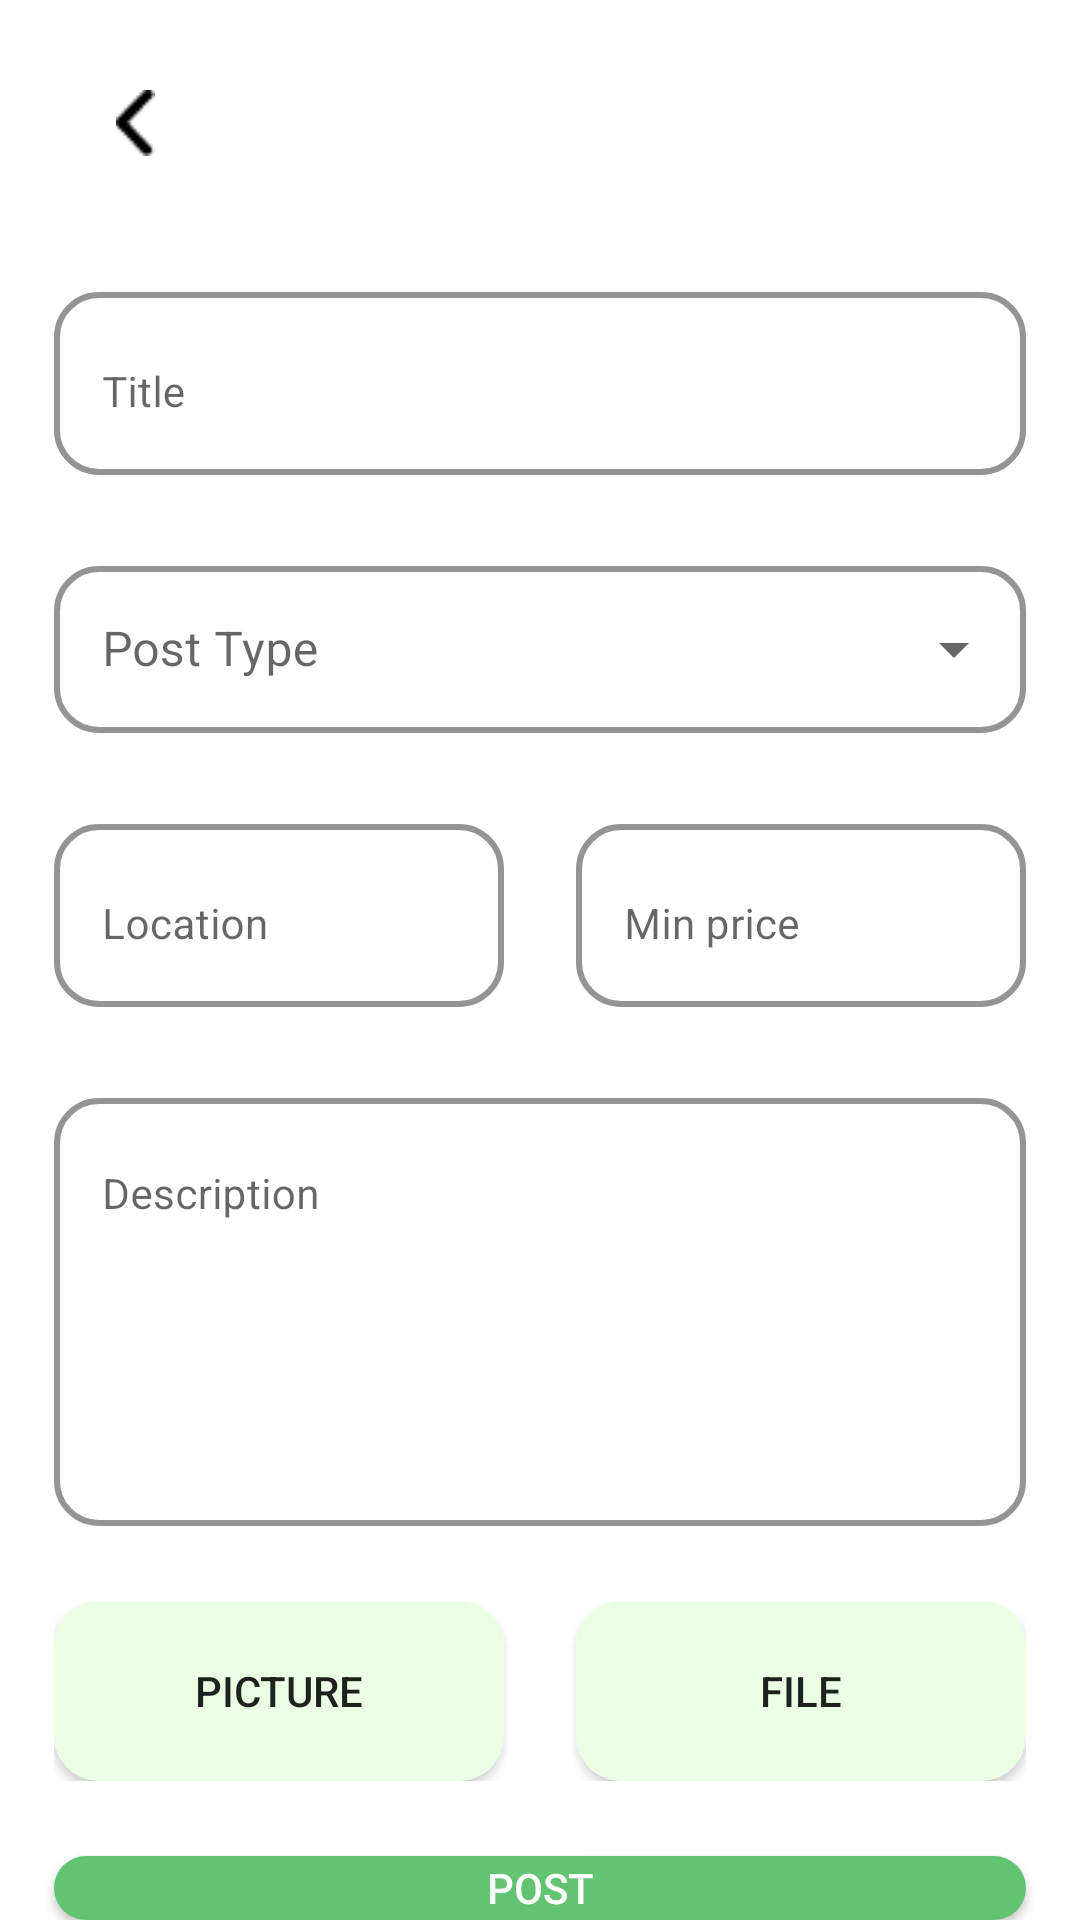

Where to tap for icons on this 1080 x 1920 app screen, as point (x, y):
back: point (135, 123)
